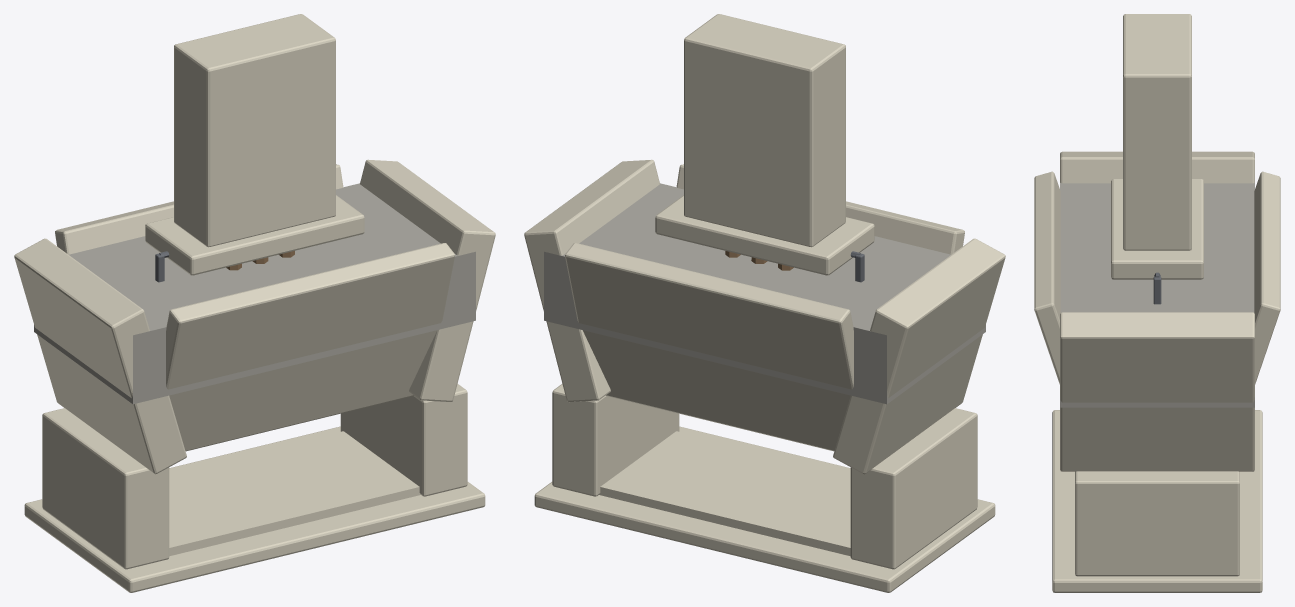
File: monastery_kitchen_hearth.glb
3 views of the same model, side by side, from view 1: azimuth 30°, elevation 25°; view 2: azimuth 150°, elevation 25°; view 3: azimuth 270°, elevation 25° (orthographic).
Visible parts, largest first — view 1: world; view 2: world; view 3: world.
Boxes of the visible parts, x1,y1,x2,y2 form: world: (14, 14, 495, 592); world: (524, 14, 1005, 592); world: (1034, 14, 1280, 592).
Bounding box in the file's own units: 1.71 × 2 × 0.9613.
